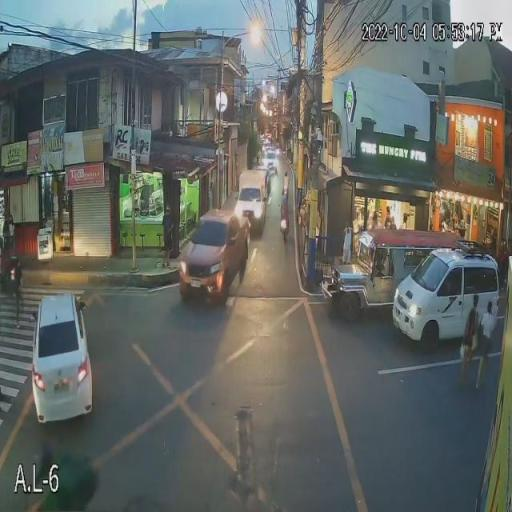helmet: (277, 195, 293, 206)
motorcycle: (271, 208, 295, 242)
rider: (277, 190, 292, 219)
